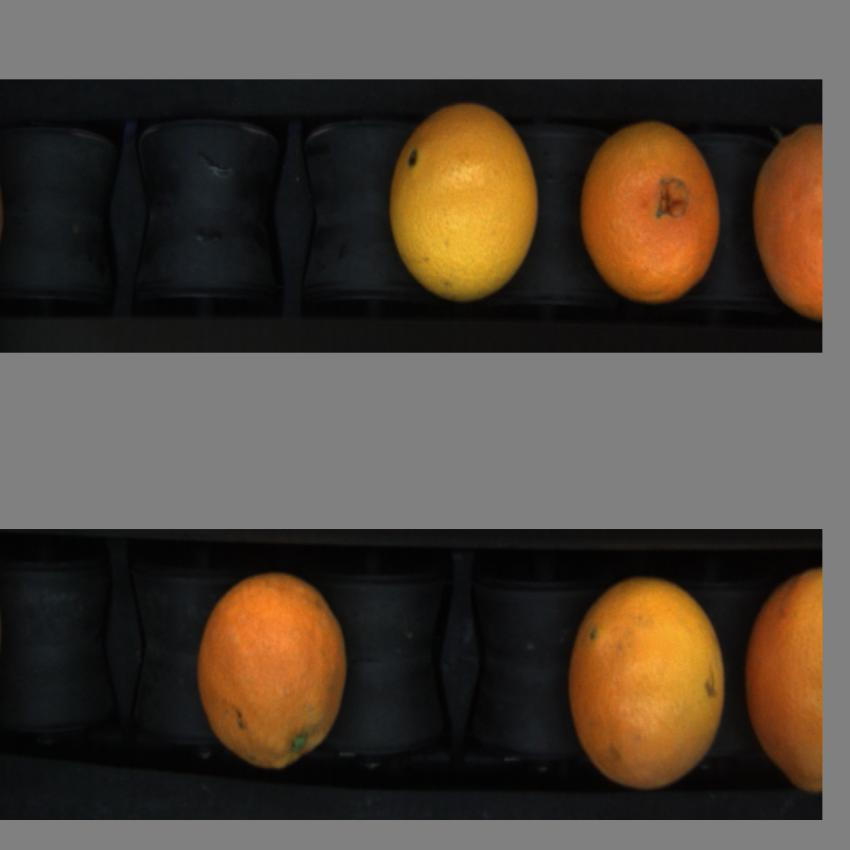Buen estado: (568, 563, 728, 790), (382, 98, 550, 305), (194, 563, 349, 772), (575, 112, 724, 307), (740, 567, 823, 796)
Mal estado: (745, 113, 826, 319)
